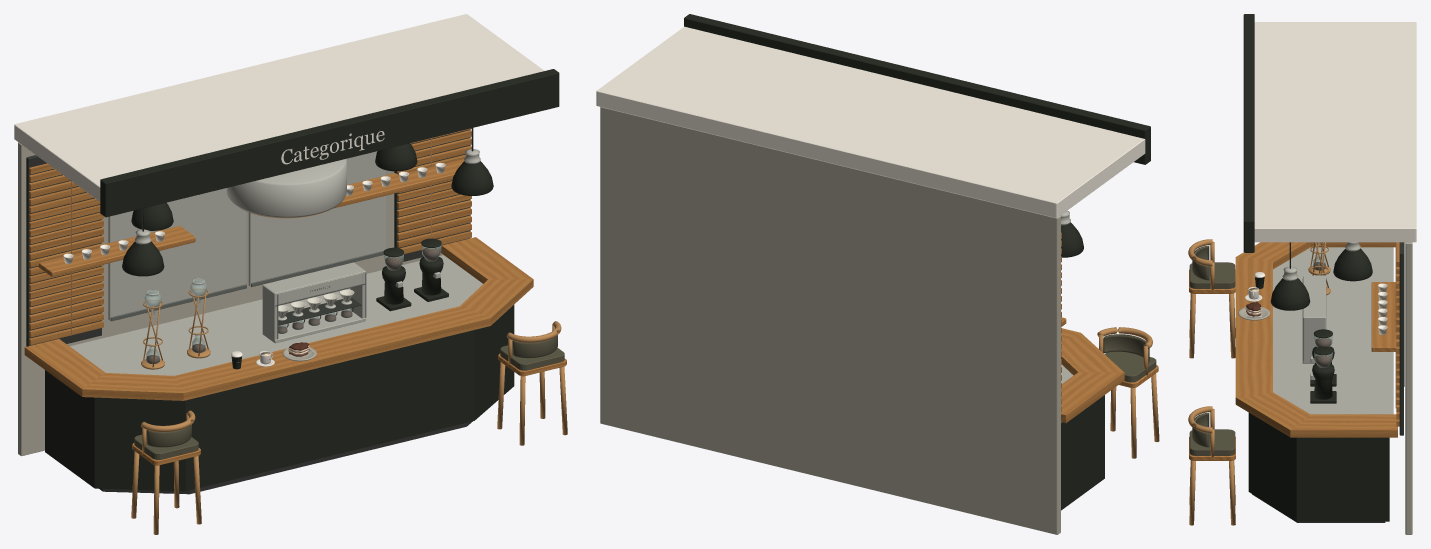
Rendered from gallery.glb.
3 views of the same model, side by side, from view 1: azimuth 30°, elevation 25°; view 2: azimuth 150°, elevation 25°; view 3: azimuth 270°, elevation 25° (orthographic). The views are drawn at different scales.
Visible parts, largest first — view 1: CategoriqueGlaze, CategoriqueMetal, CategoriqueAsh, CategoriqueBrewingBar, CategoriqueGlass; view 2: CategoriqueBrewingBar, CategoriqueGlaze, CategoriqueAsh, CategoriqueMetal; view 3: CategoriqueGlaze, CategoriqueMetal, CategoriqueAsh, CategoriqueBrewingBar, CategoriqueGlass.
Boxes of the visible parts, x1,y1,x2,y2 form: CategoriqueGlaze: (14, 14, 564, 491); CategoriqueMetal: (70, 138, 567, 534); CategoriqueAsh: (24, 128, 566, 465); CategoriqueBrewingBar: (18, 128, 473, 494); CategoriqueGlass: (144, 244, 441, 364); CategoriqueBrewingBar: (600, 107, 1060, 534); CategoriqueGlaze: (596, 14, 1156, 510); CategoriqueAsh: (1061, 232, 1158, 422); CategoriqueMetal: (1060, 210, 1159, 458); CategoriqueGlaze: (1189, 14, 1416, 521); CategoriqueMetal: (1188, 239, 1404, 525); CategoriqueAsh: (1189, 242, 1399, 460); CategoriqueBrewingBar: (1238, 242, 1412, 534); CategoriqueGlass: (1313, 242, 1332, 367).
Size of the model in its own units: 4.47 by 3.16 by 2.08.
6 materials, 1 textured.
